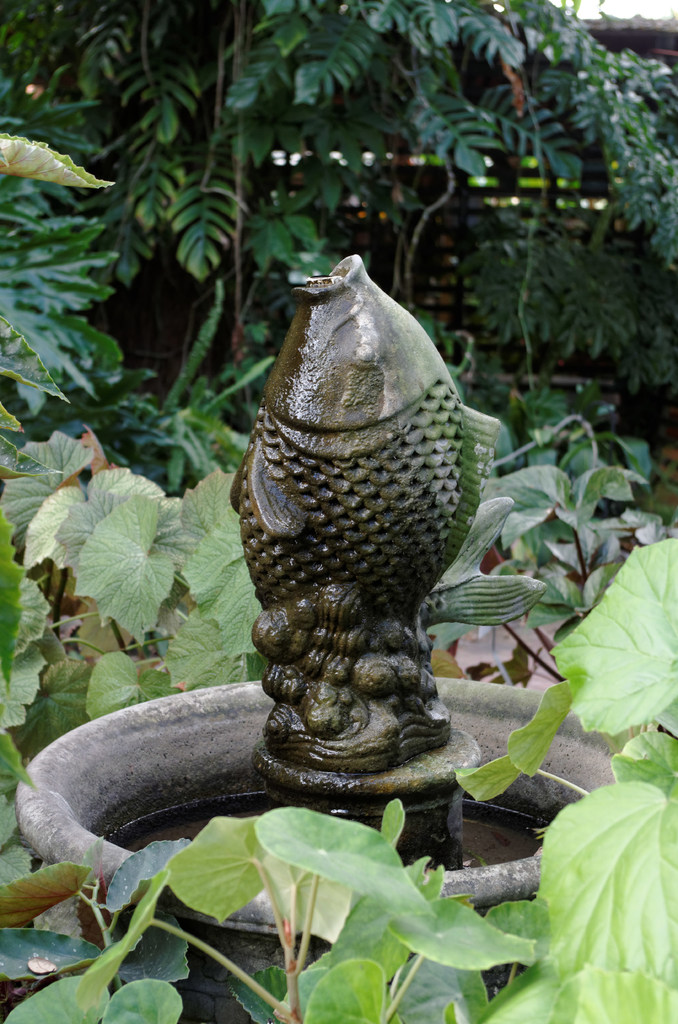Animal: (222, 250, 551, 687)
